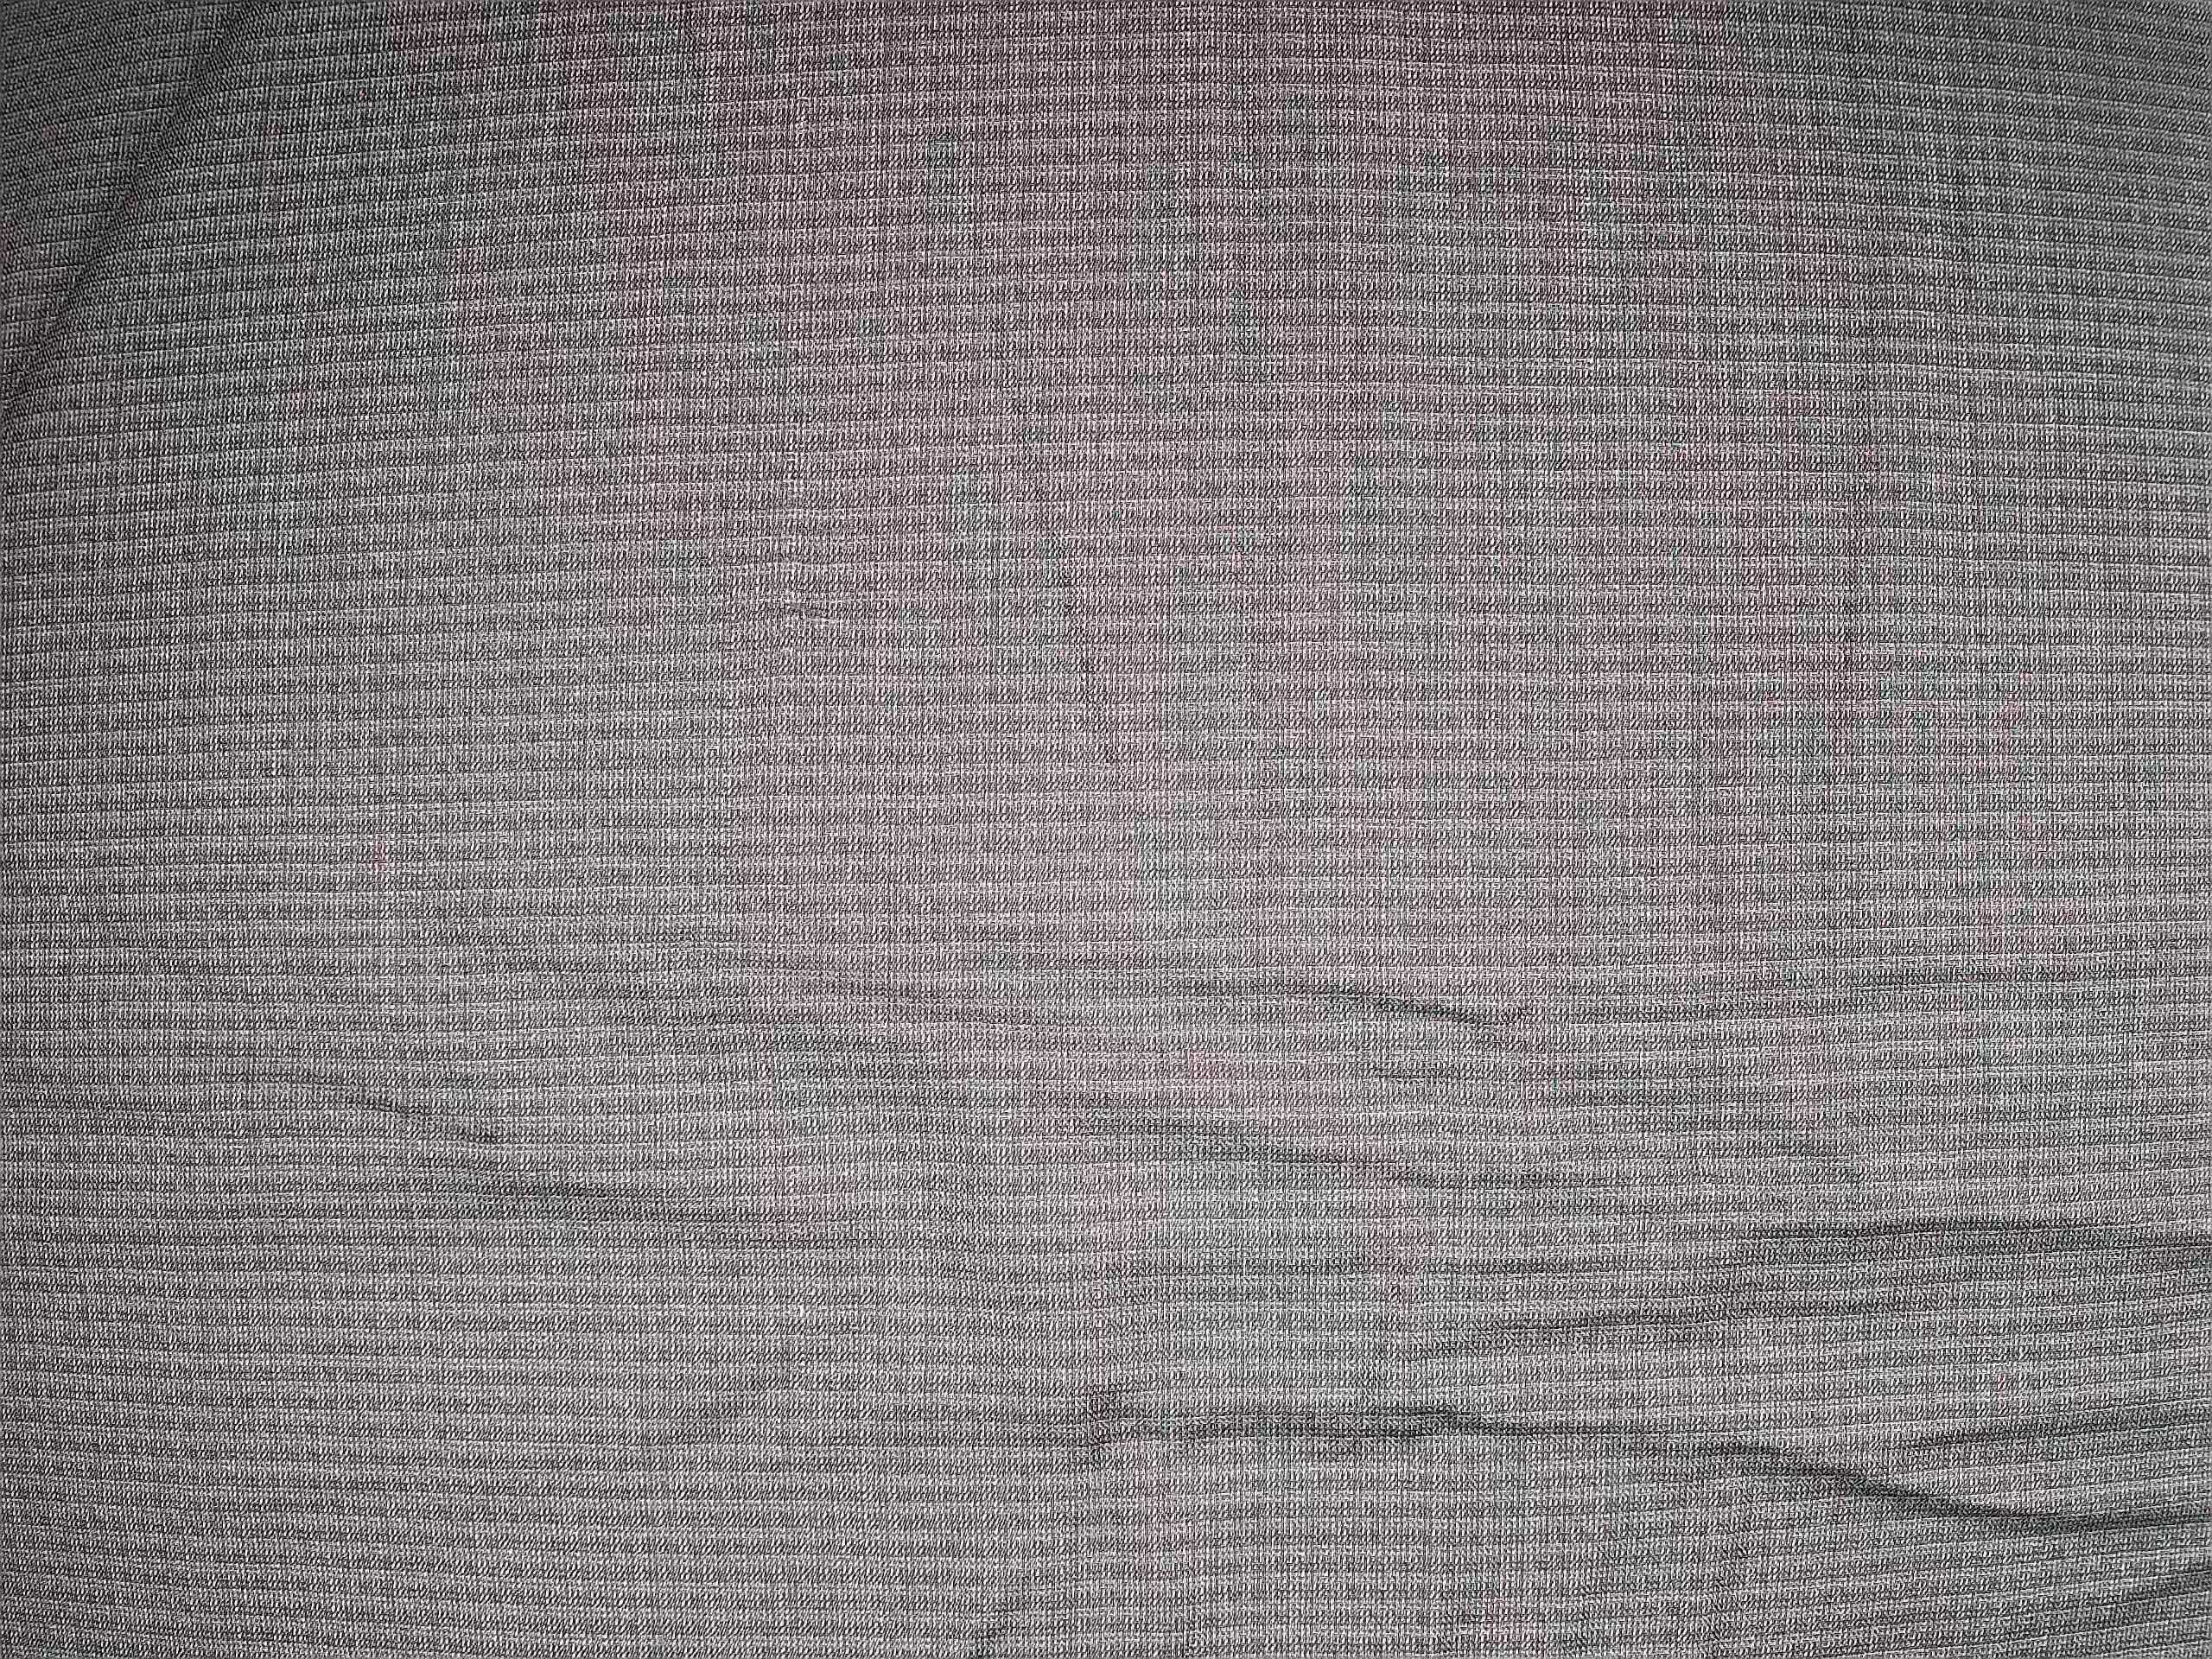knots: (742, 545, 857, 687)
